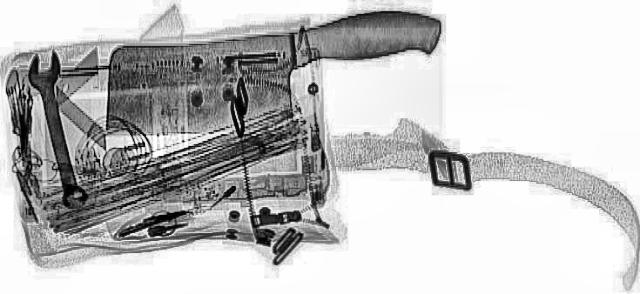Knife: (89, 8, 453, 134)
Wrench: (20, 51, 89, 208)
